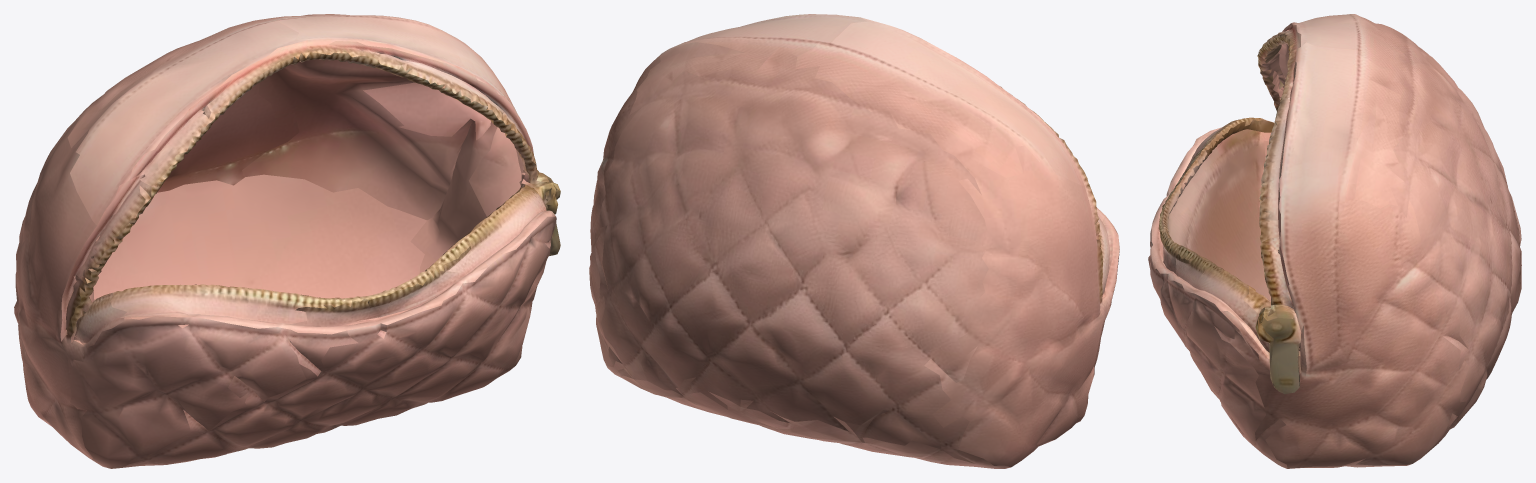
File: makeup_bag_glb.glb
The picture shows the model from 3 angles, left to right: view 1: azimuth 30°, elevation 25°; view 2: azimuth 150°, elevation 25°; view 3: azimuth 270°, elevation 25°; orthographic projection. The views are drawn at different scales.
Parts seen in each view (by area): view 1: geometry_0; view 2: geometry_0; view 3: geometry_0.
Boxes of the visible parts, x1,y1,x2,y2 form: geometry_0: [14, 14, 560, 468]; geometry_0: [589, 14, 1119, 468]; geometry_0: [1148, 14, 1521, 468].
Size of the model in its own units: 0.22 by 0.1664 by 0.1611.
1 material, 1 textured.
